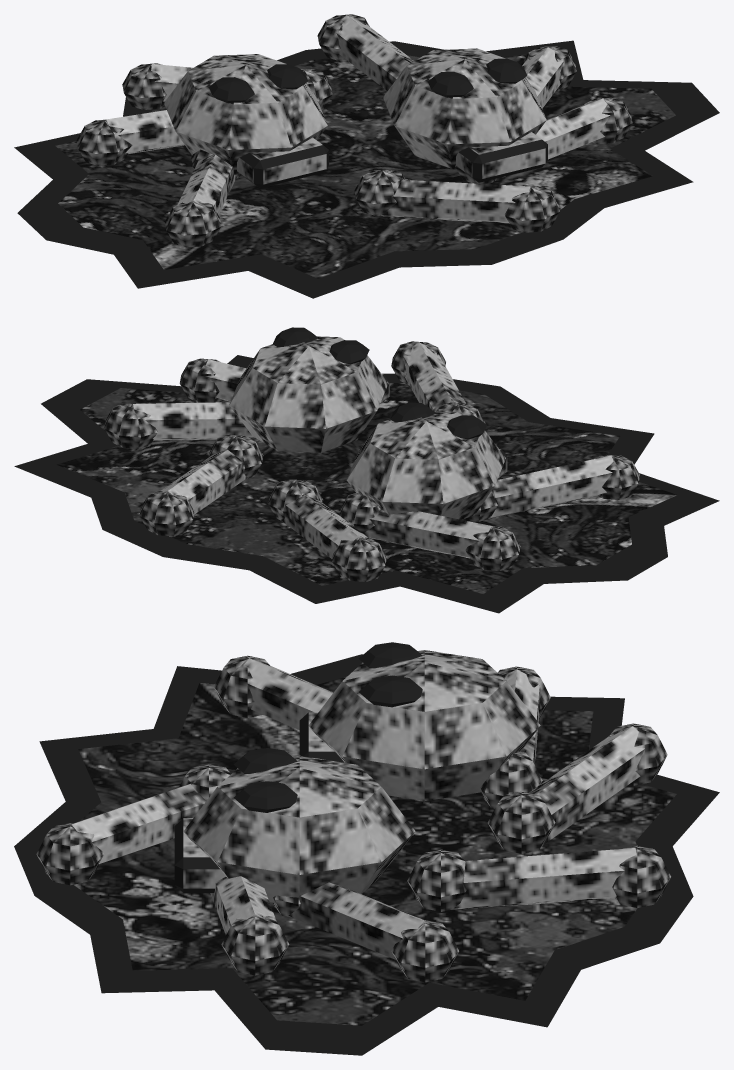
File: corpse_2.glb
3 views of the same model, one above another, from view 1: azimuth 30°, elevation 25°; view 2: azimuth 150°, elevation 25°; view 3: azimuth 270°, elevation 25° (orthographic). The views are drawn at different scales.
Parts seen in each view (by area): view 1: Goo puddle.003, Goo puddle.002, Skull.002, Skull.001, Bone.007, Bone.008, Broken jaw.001, Broken jaw.002, Bone.010, Bone.006, Knuckle.019, Bone.009 (+14 smaller); view 2: Goo puddle.003, Goo puddle.002, Skull.002, Skull.001, Bone.009, Bone.006, Bone.005, Bone.008, Bone.011, Bone.007, Knuckle.017, Knuckle.023 (+14 smaller); view 3: Goo puddle.003, Goo puddle.002, Skull.001, Skull.002, Bone.008, Bone.011, Bone.005, Bone.007, Bone.009, Knuckle.022, Knuckle.021, Knuckle.011 (+15 smaller).
Part boxes in pixels (box(x1,y1,x2,y2)): Goo puddle.003: box(55, 54, 675, 278); Goo puddle.002: box(14, 40, 719, 298); Skull.002: box(383, 48, 546, 168); Skull.001: box(164, 54, 327, 174); Bone.007: box(381, 179, 531, 223); Bone.008: box(336, 15, 413, 90); Broken jaw.001: box(237, 137, 328, 188); Broken jaw.002: box(456, 132, 547, 182); Bone.010: box(495, 98, 610, 180); Bone.006: box(103, 110, 184, 153); Knuckle.019: box(165, 202, 221, 247); Bone.009: box(177, 154, 236, 214); Goo puddle.003: box(57, 383, 677, 593); Goo puddle.002: box(14, 355, 719, 613); Skull.002: box(229, 336, 388, 452); Skull.001: box(347, 411, 505, 519); Bone.009: box(488, 455, 613, 518); Bone.006: box(363, 509, 495, 558); Bone.005: box(132, 402, 255, 440); Bone.008: box(161, 449, 247, 514); Bone.011: box(281, 495, 367, 558); Bone.007: box(403, 342, 465, 411); Knuckle.017: box(139, 491, 194, 536); Knuckle.023: box(332, 537, 386, 581); Goo puddle.003: box(74, 676, 676, 1025); Goo puddle.002: box(14, 654, 719, 1055); Skull.001: box(308, 650, 540, 801); Skull.002: box(183, 755, 415, 902); Bone.008: box(451, 848, 636, 909); Bone.011: box(529, 726, 644, 845); Bone.005: box(288, 882, 429, 959); Bone.007: box(67, 783, 205, 863); Bone.009: box(244, 658, 332, 729); Knuckle.022: box(487, 791, 555, 853); Knuckle.021: box(221, 916, 289, 975); Knuckle.011: box(391, 920, 458, 982).
Size of the model in its own units: 0.532 by 0.081 by 0.3953.
Materials: 2 (1 with a texture image).
